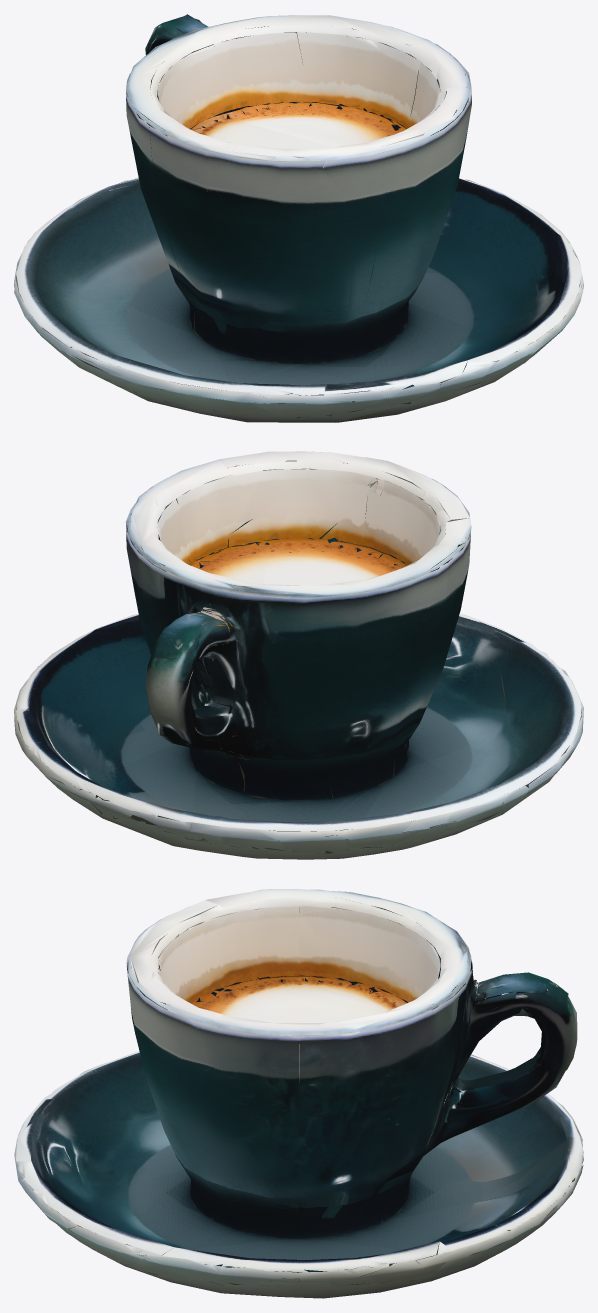
Rendered from makiato.glb.
3 renders of one model, top to bottom at view 1: azimuth 30°, elevation 25°; view 2: azimuth 150°, elevation 25°; view 3: azimuth 270°, elevation 25°, orthographic.
Visible parts, largest first — view 1: model; view 2: model; view 3: model.
Part boxes in pixels (box(x1,y1,x2,y2)): model: box(14, 14, 583, 422); model: box(14, 451, 583, 859); model: box(14, 889, 583, 1298).
Size of the model in its own units: 1.9 by 0.9389 by 1.9.
1 material, 1 textured.
